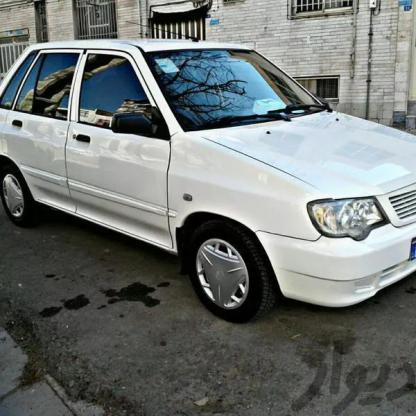Car: (0, 35, 416, 311)
